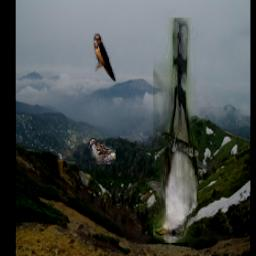Cuckoo: (154, 18, 199, 243)
Sparrow: (88, 138, 116, 164)
Swallow: (94, 33, 116, 82)
